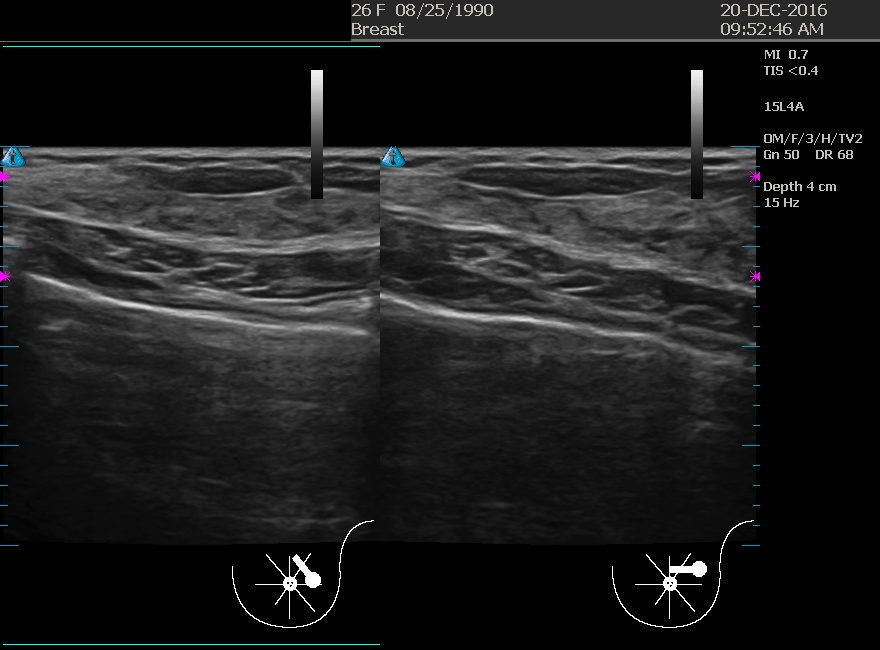BIRADS_3: (106, 154, 306, 355), (408, 151, 608, 352)
